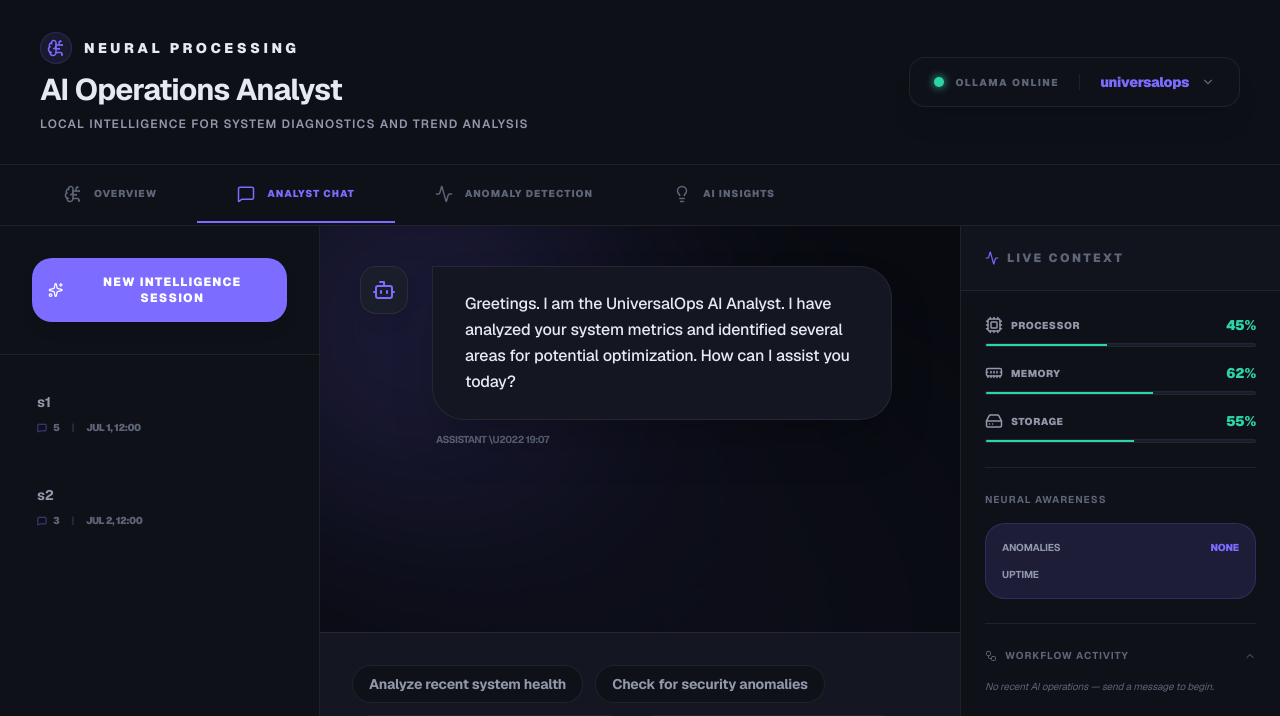
Test: AIOps Page › switches to AI Insights tab
The width and height of the screenshot is (1280, 716).
Click the tab "AI Insights". click: (724, 195)
box: left=633, top=165, right=815, bottom=225
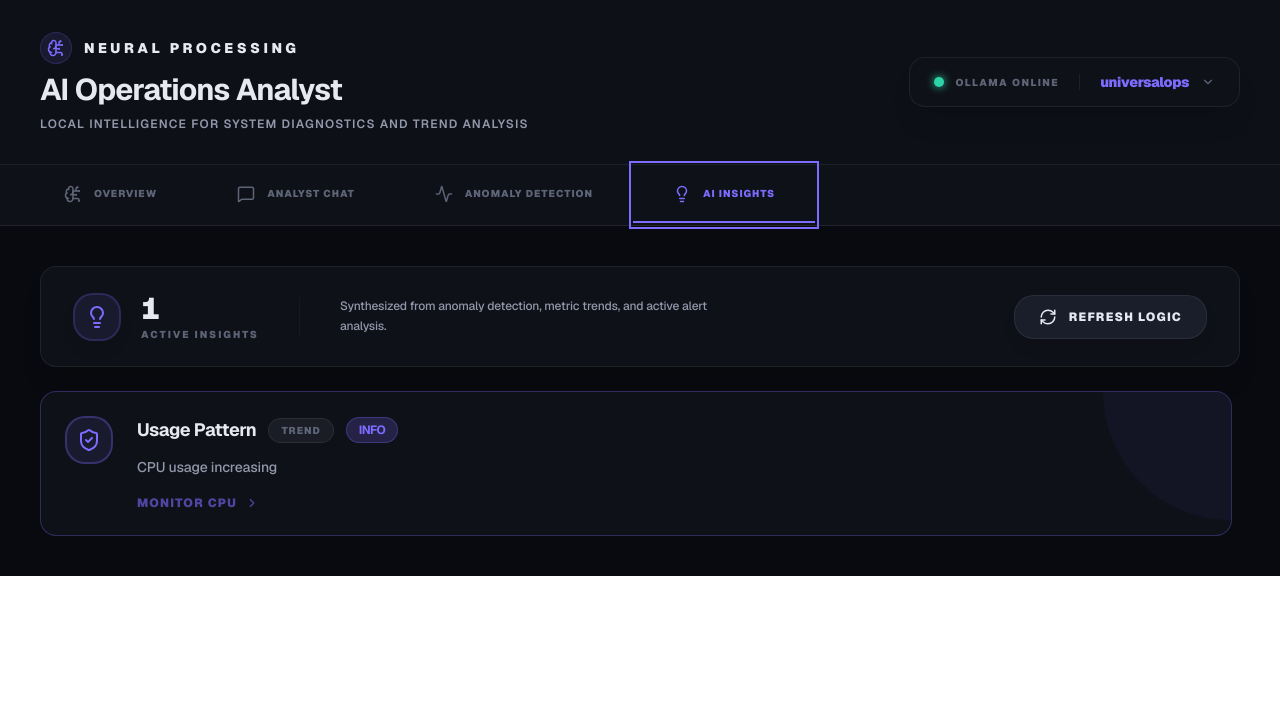
Check: the heading "Usage Pattern" is shown, box left=137, top=416, right=256, bottom=444
